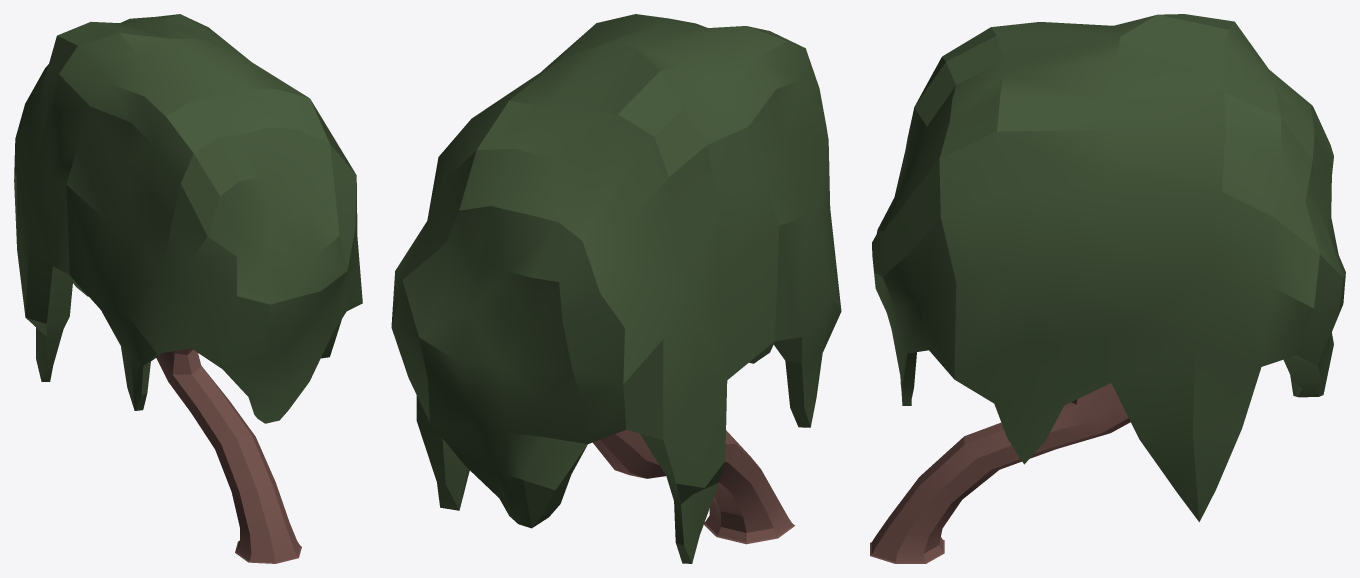
File: Willow_3.fbx
3 views of the same model, side by side, from view 1: azimuth 30°, elevation 25°; view 2: azimuth 150°, elevation 25°; view 3: azimuth 270°, elevation 25° (orthographic). The views are drawn at different scales.
Parts seen in each view (by area): view 1: Willow_3; view 2: Willow_3; view 3: Willow_3.
Boxes of the visible parts, left/top/right/bottom form: Willow_3: left=14, top=14, right=362, bottom=563; Willow_3: left=391, top=14, right=841, bottom=563; Willow_3: left=870, top=14, right=1345, bottom=563.
Size of the model in its own units: 132 by 235 by 198.
